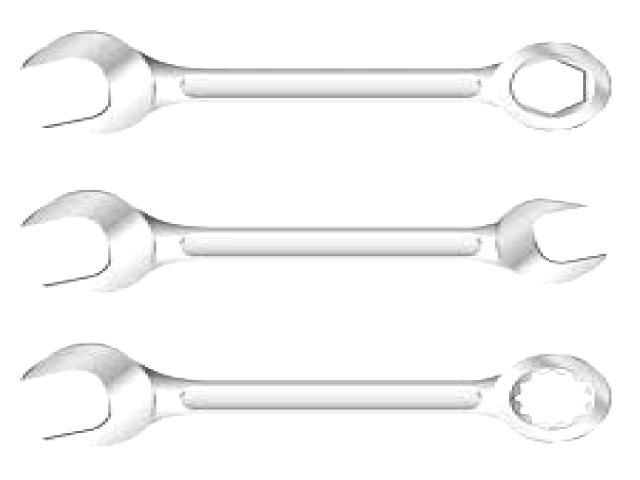Wrench: (24, 32, 611, 134), (22, 191, 606, 293), (22, 345, 611, 445)
